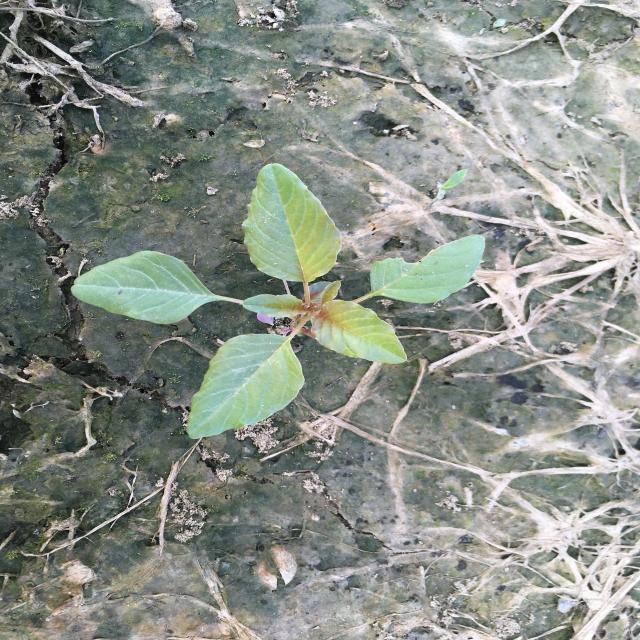PalmerAmaranth: (69, 162, 487, 440)
